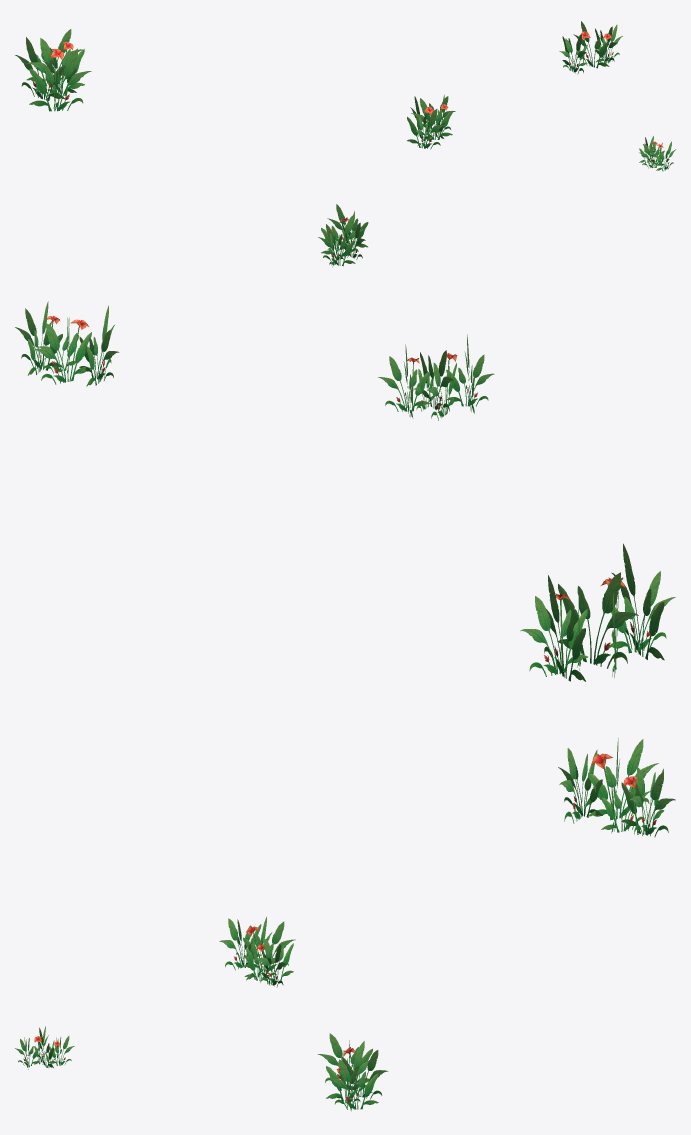
File: area_13_4.FBX
3 views of the same model, one above another, from view 1: azimuth 30°, elevation 25°; view 2: azimuth 150°, elevation 25°; view 3: azimuth 270°, elevation 25° (orthographic). The views are drawn at different scales.
Visible parts, largest first — view 1: area_13_4; view 2: area_13_4; view 3: area_13_4.
Boxes of the visible parts, x1,y1,x2,y2 form: area_13_4: [15, 21, 676, 171]; area_13_4: [15, 204, 675, 681]; area_13_4: [15, 738, 675, 1111].
Bounding box in the file's own units: 12.96 × 1.56 × 11.48.
